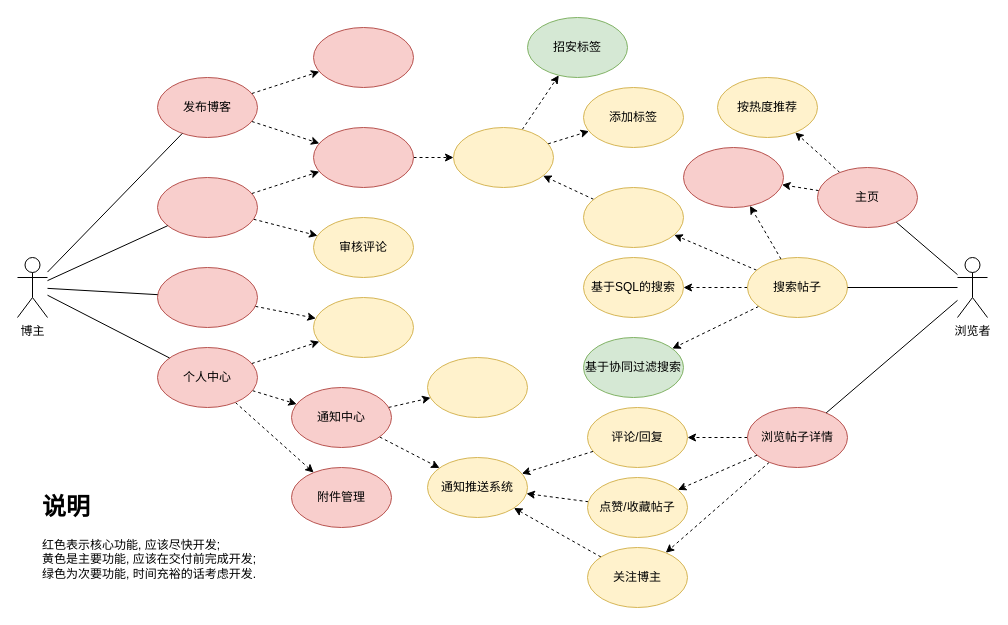
This 1008x625 diagram has some shape labels left out. The box of each missing label's shape, as (x1, y1, x2, y2) in pixels:
博客管理: (156, 176, 258, 238)
博文编辑: (312, 26, 414, 88)
博文设置 (权限设置, 删除等): (312, 126, 414, 188)
基于标签的搜索: (582, 186, 684, 248)
展示帖子列表: (682, 146, 784, 208)
标签系统: (452, 126, 554, 188)
登录注册: (156, 266, 258, 328)
账号设置: (312, 296, 414, 358)
通知权限管理 (屏蔽哪些通知): (426, 356, 528, 418)
